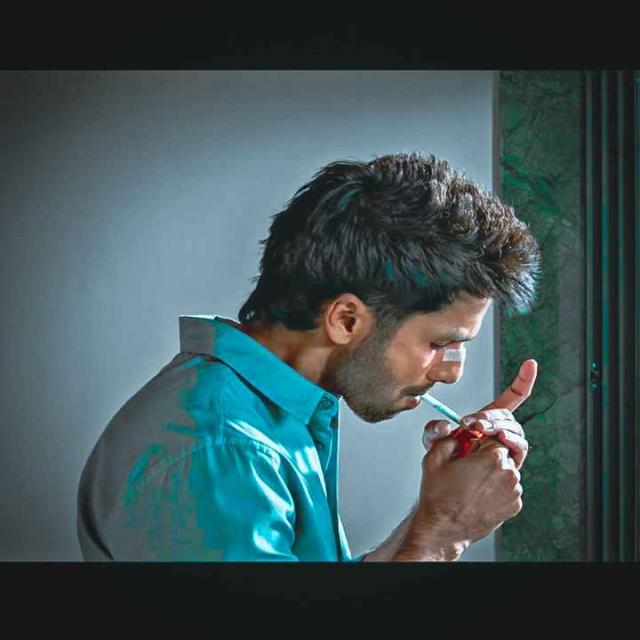smoke: (418, 391, 474, 432)
